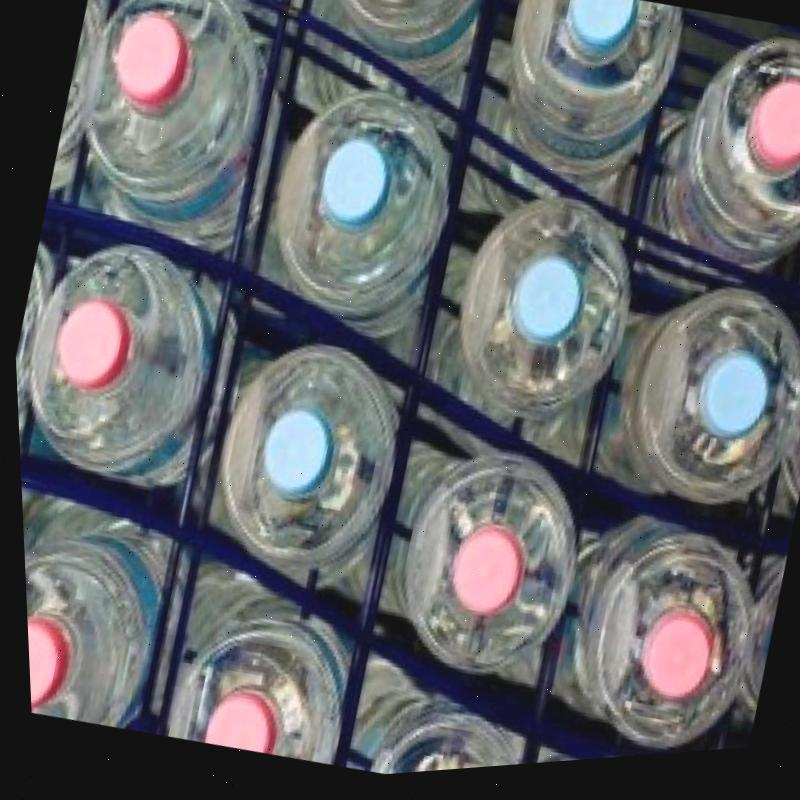botella: (40, 0, 306, 278), (347, 427, 597, 709), (239, 73, 475, 364), (183, 322, 419, 606), (437, 0, 689, 260), (529, 505, 774, 770), (8, 218, 237, 500), (568, 265, 800, 542), (602, 18, 800, 339), (427, 186, 652, 461), (154, 583, 357, 778), (18, 496, 170, 734), (292, 0, 508, 123), (344, 690, 532, 781), (39, 0, 117, 196), (717, 560, 786, 731), (8, 238, 58, 453), (747, 346, 800, 526), (127, 0, 295, 18)
